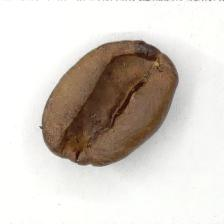NG: (65, 52, 144, 153)
